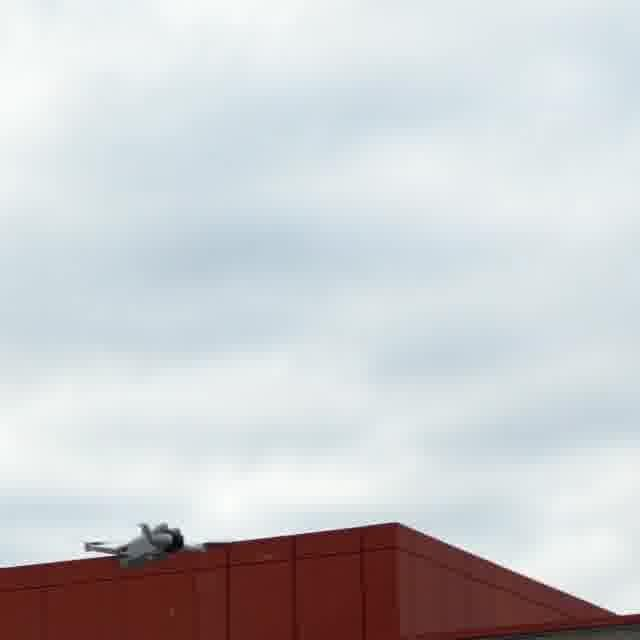Drohne: (84, 522, 228, 567)
